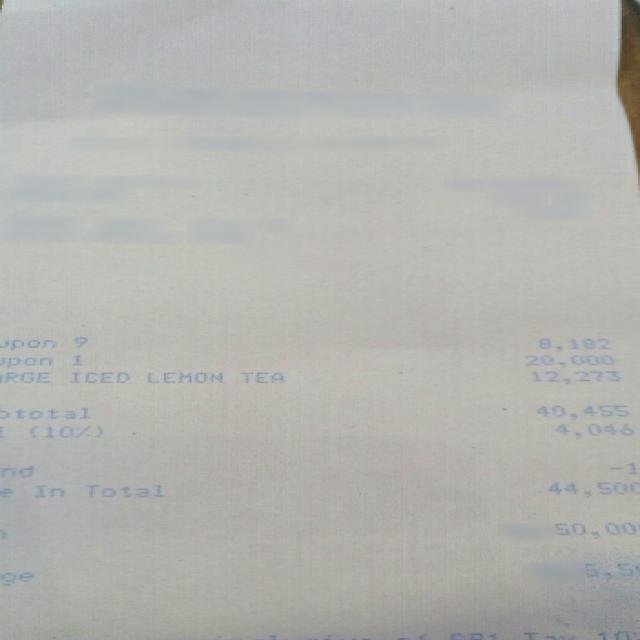text: (546, 479, 636, 497), (0, 403, 90, 420), (551, 520, 636, 537), (530, 404, 624, 419), (518, 352, 611, 367), (527, 368, 616, 383), (552, 423, 631, 438), (84, 483, 162, 496), (26, 424, 100, 437), (0, 336, 53, 350), (144, 371, 217, 381), (534, 338, 606, 348), (582, 560, 632, 574), (0, 567, 35, 584), (69, 371, 126, 381), (0, 462, 35, 478), (0, 371, 49, 382), (0, 355, 49, 365), (239, 371, 281, 381), (31, 483, 66, 495), (69, 335, 84, 346), (70, 355, 78, 364)
